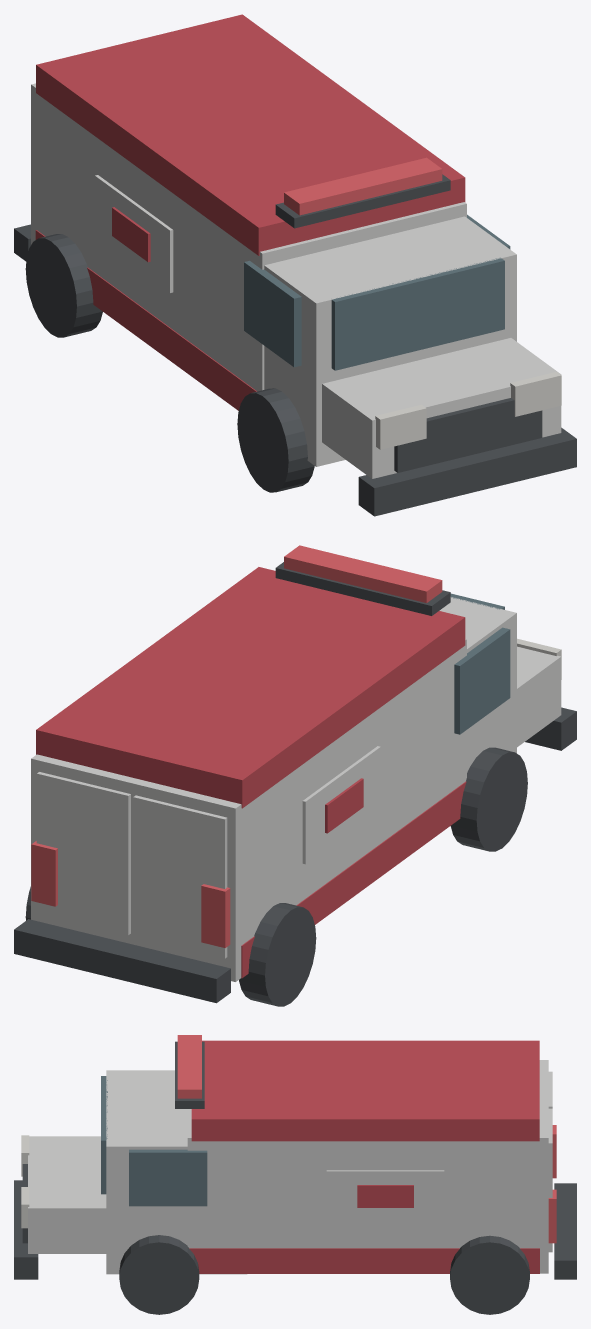
3 views of the same model, one above another, from view 1: azimuth 30°, elevation 25°; view 2: azimuth 150°, elevation 25°; view 3: azimuth 270°, elevation 25° (orthographic). The views are drawn at different scales.
Parts seen in each view (by area): view 1: roof_red, body_main, cab_main, hood, windshield, front_bumper, wheel_-1_2.25, grille, wheel_-1_-1.55, lower_red, window_left, lightbar_red (+5 smaller); view 2: roof_red, body_main, rear_door_right, rear_door_left, rear_bumper, wheel_-1_2.25, wheel_-1_-1.55, lower_red, cab_main, window_left, lightbar_red, samu_panel_-1 (+6 smaller); view 3: roof_red, body_main, cab_main, hood, lower_red, wheel_1_2.25, wheel_1_-1.55, samu_panel_1, window_right, rear_bumper, lightbar_red, front_bumper (+5 smaller).
Boxes of the visible parts, x1,y1,x2,y2 form: roof_red: [36, 14, 465, 255]; body_main: [31, 83, 466, 391]; cab_main: [264, 216, 516, 466]; hood: [322, 338, 561, 478]; windshield: [331, 257, 504, 370]; front_bumper: [358, 427, 576, 516]; wheel_-1_2.25: [237, 388, 314, 492]; grille: [394, 398, 542, 472]; wheel_-1_-1.55: [25, 234, 102, 337]; lower_red: [35, 230, 256, 410]; window_left: [244, 260, 301, 367]; lightbar_red: [284, 157, 442, 215]; roof_red: [36, 567, 465, 808]; body_main: [31, 639, 466, 981]; rear_door_right: [36, 772, 130, 935]; rear_door_left: [133, 795, 227, 958]; rear_bumper: [14, 919, 230, 1003]; wheel_-1_2.25: [450, 747, 527, 851]; wheel_-1_-1.55: [239, 903, 316, 1006]; lower_red: [241, 781, 466, 978]; cab_main: [439, 597, 516, 772]; window_left: [454, 627, 510, 734]; lightbar_red: [284, 545, 442, 602]; samu_panel_-1: [302, 746, 380, 864]; roof_red: [191, 1040, 539, 1141]; body_main: [187, 1060, 548, 1273]; cab_main: [106, 1070, 246, 1274]; hood: [28, 1136, 106, 1253]; lower_red: [189, 1248, 539, 1273]; wheel_1_2.25: [119, 1235, 199, 1314]; wheel_1_-1.55: [450, 1235, 529, 1314]; samu_panel_1: [326, 1170, 444, 1220]; window_right: [129, 1149, 207, 1206]; rear_bumper: [554, 1183, 576, 1279]; lightbar_red: [177, 1035, 201, 1098]; front_bumper: [14, 1180, 38, 1279].
Size of the model in its own units: 2.48 by 2.62 by 6.47.
